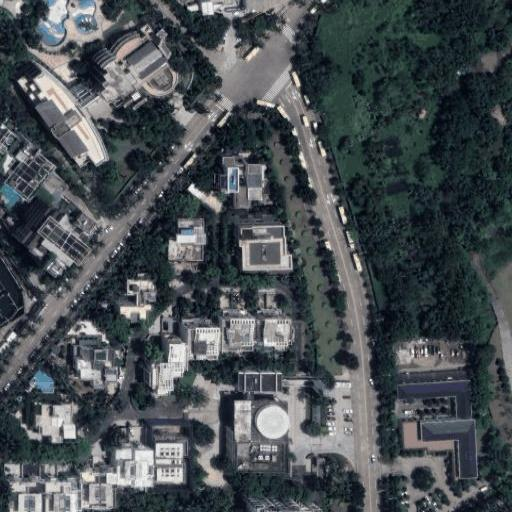building: (17, 23, 179, 167), (8, 195, 77, 267), (403, 419, 479, 479), (231, 400, 290, 468), (397, 380, 471, 420), (4, 148, 54, 200), (234, 221, 287, 269), (219, 156, 262, 207), (76, 343, 117, 385), (152, 438, 187, 483), (31, 399, 69, 438), (114, 447, 153, 484), (169, 220, 205, 260), (80, 469, 115, 507), (0, 122, 26, 173), (45, 477, 80, 512), (188, 179, 225, 211), (8, 481, 45, 512), (245, 496, 313, 512), (182, 323, 215, 354), (220, 314, 251, 347), (238, 372, 279, 393), (257, 315, 285, 344), (73, 210, 99, 234), (144, 360, 166, 388), (126, 277, 154, 298), (166, 336, 182, 370), (152, 425, 186, 438), (111, 300, 138, 316), (33, 372, 56, 390), (311, 397, 326, 423), (266, 293, 277, 309)
